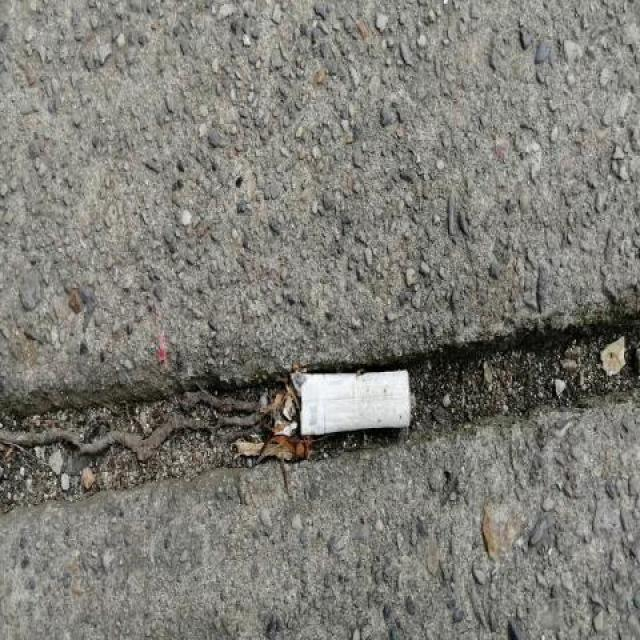non-organic waste: (291, 367, 418, 440)
